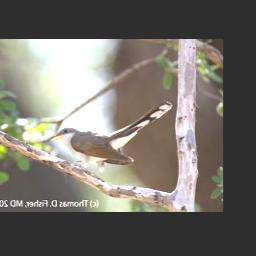Cuckoo: (45, 95, 175, 182)
